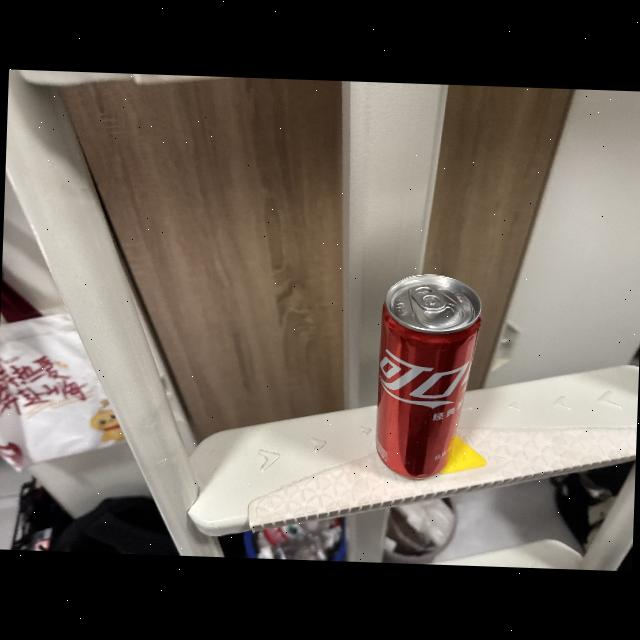Cola: (367, 266, 488, 484)
